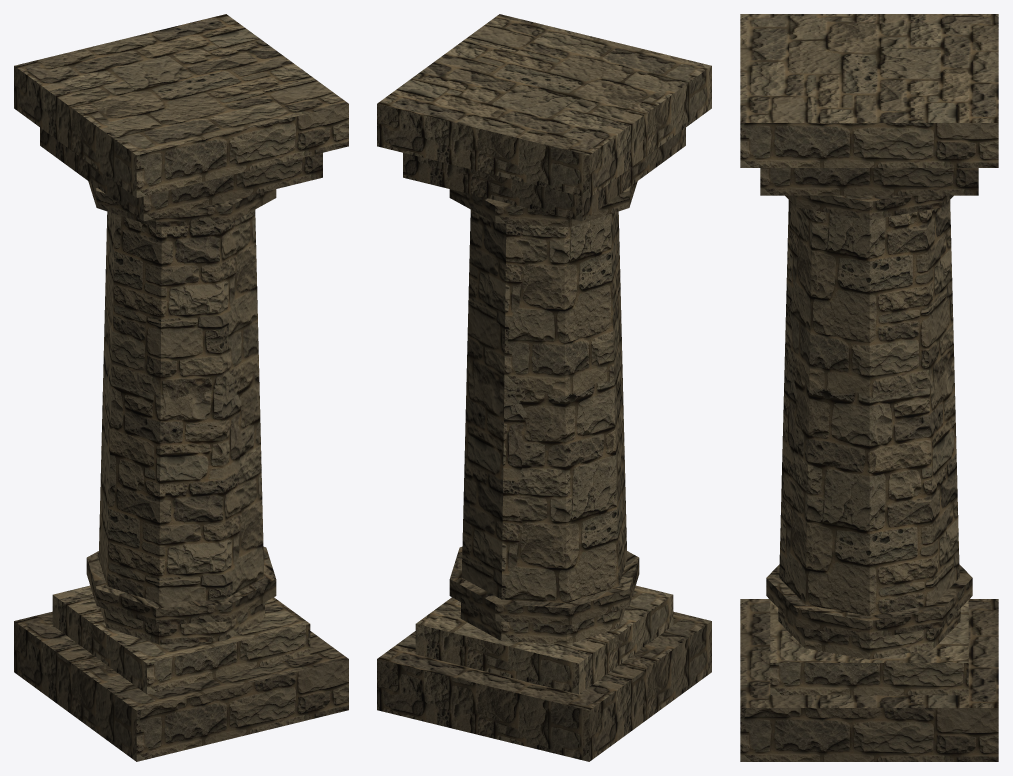
Rendered from dungeon_pillar_01_real.glb.
3 renders of one model, left to right at view 1: azimuth 30°, elevation 25°; view 2: azimuth 150°, elevation 25°; view 3: azimuth 270°, elevation 25°, orthographic. The views are drawn at different scales.
Parts seen in each view (by area): view 1: dungeon_pillar_01; view 2: dungeon_pillar_01; view 3: dungeon_pillar_01.
Part boxes in pixels (<box>): dungeon_pillar_01: <box>14,14,348,761</box>; dungeon_pillar_01: <box>377,14,711,761</box>; dungeon_pillar_01: <box>740,14,998,761</box>.
Size of the model in its own units: 1.3 by 3.55 by 1.3.
Materials: 2 (2 with a texture image).
